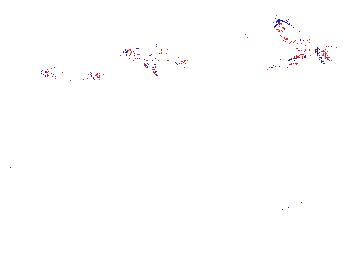X-ray fish: (60, 85, 101, 110)
glassfish: (266, 178, 345, 217)
red belly glassfish: (263, 49, 314, 67), (152, 37, 165, 64)
redtail glassfish: (271, 16, 332, 68), (121, 46, 190, 75), (42, 64, 102, 86)
